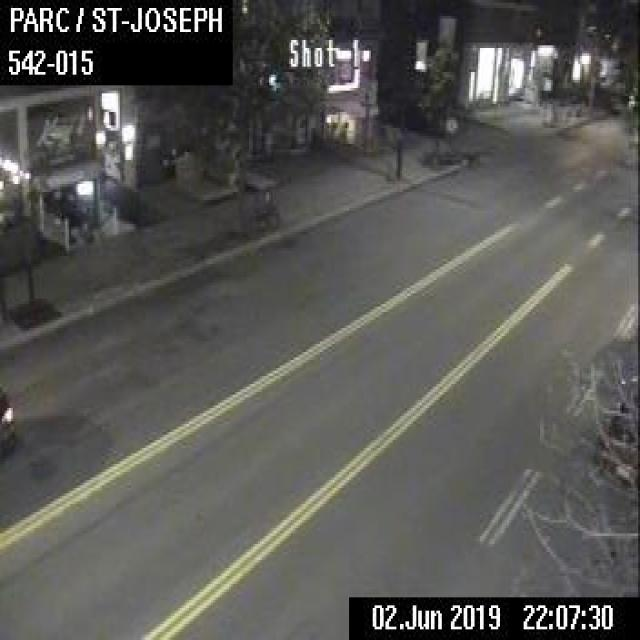vehicle: (595, 368, 638, 485), (0, 389, 15, 451)
